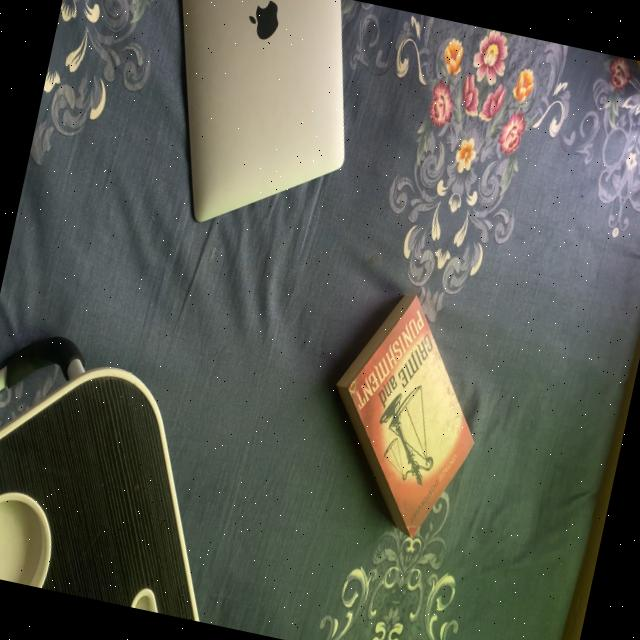book: (298, 269, 510, 564)
laptop: (130, 0, 374, 243)
table: (0, 317, 262, 623)
